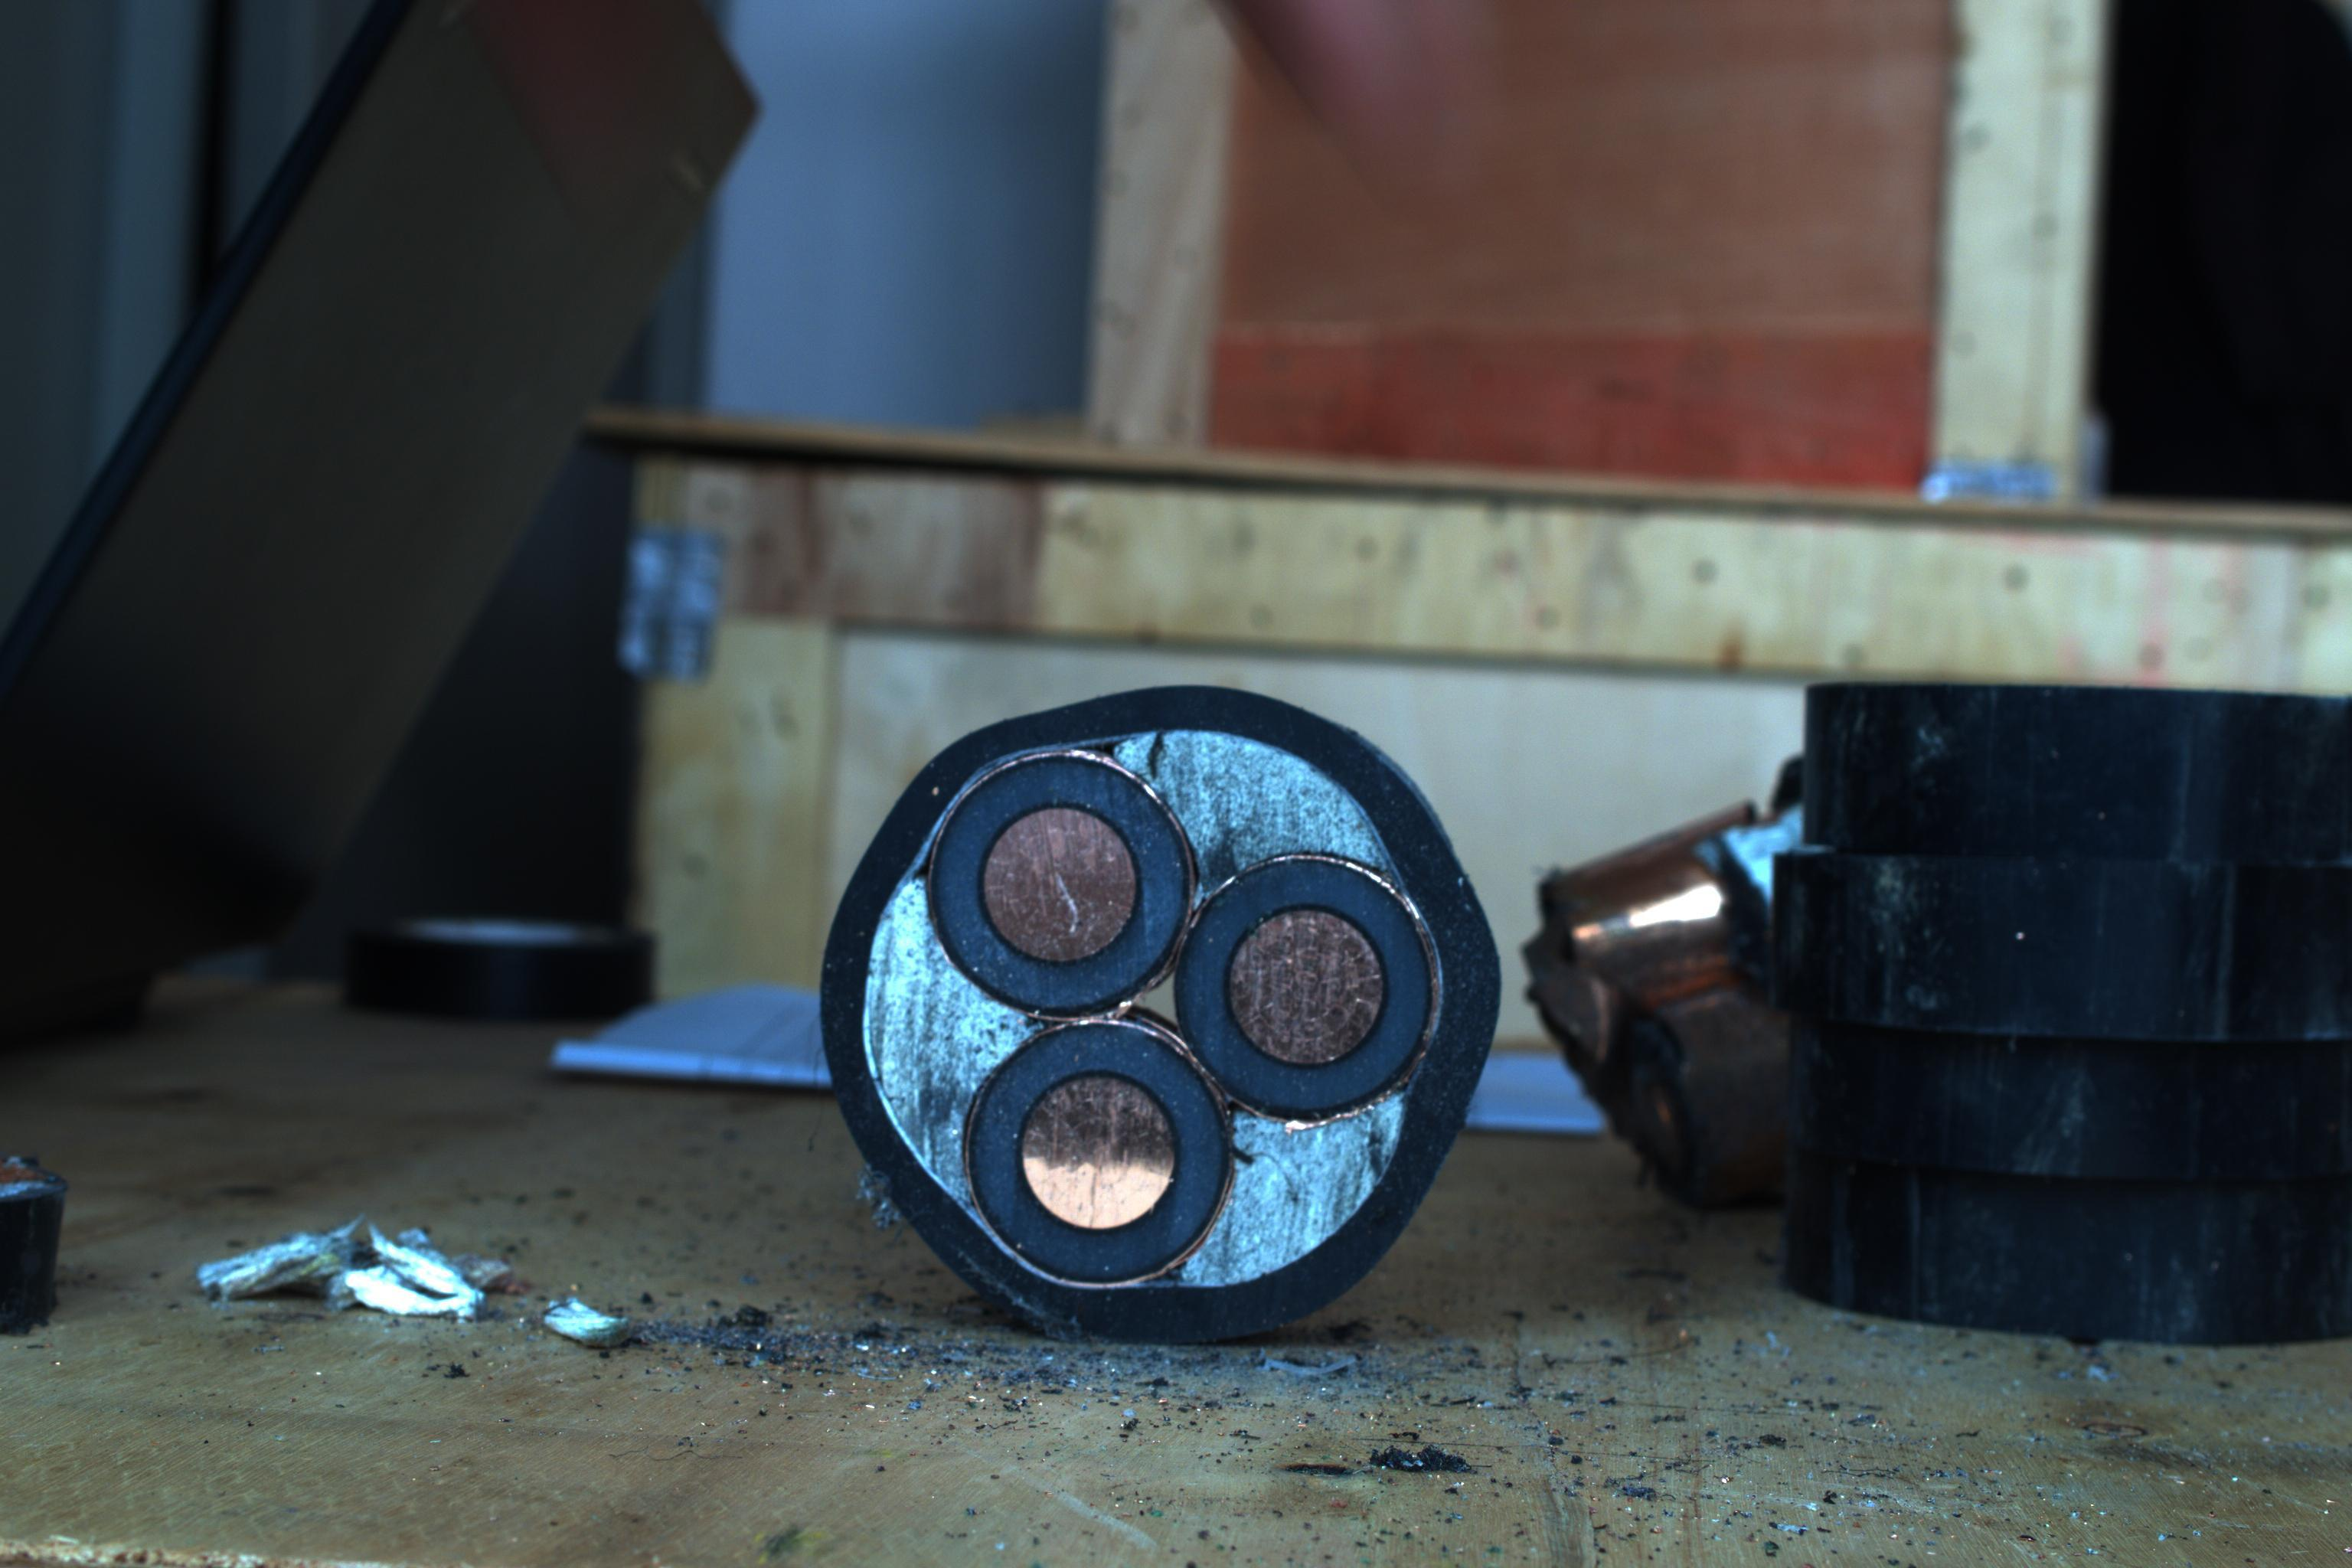ZA_YJV_8.7_10kV_3x240: (822, 705, 1496, 1344)
